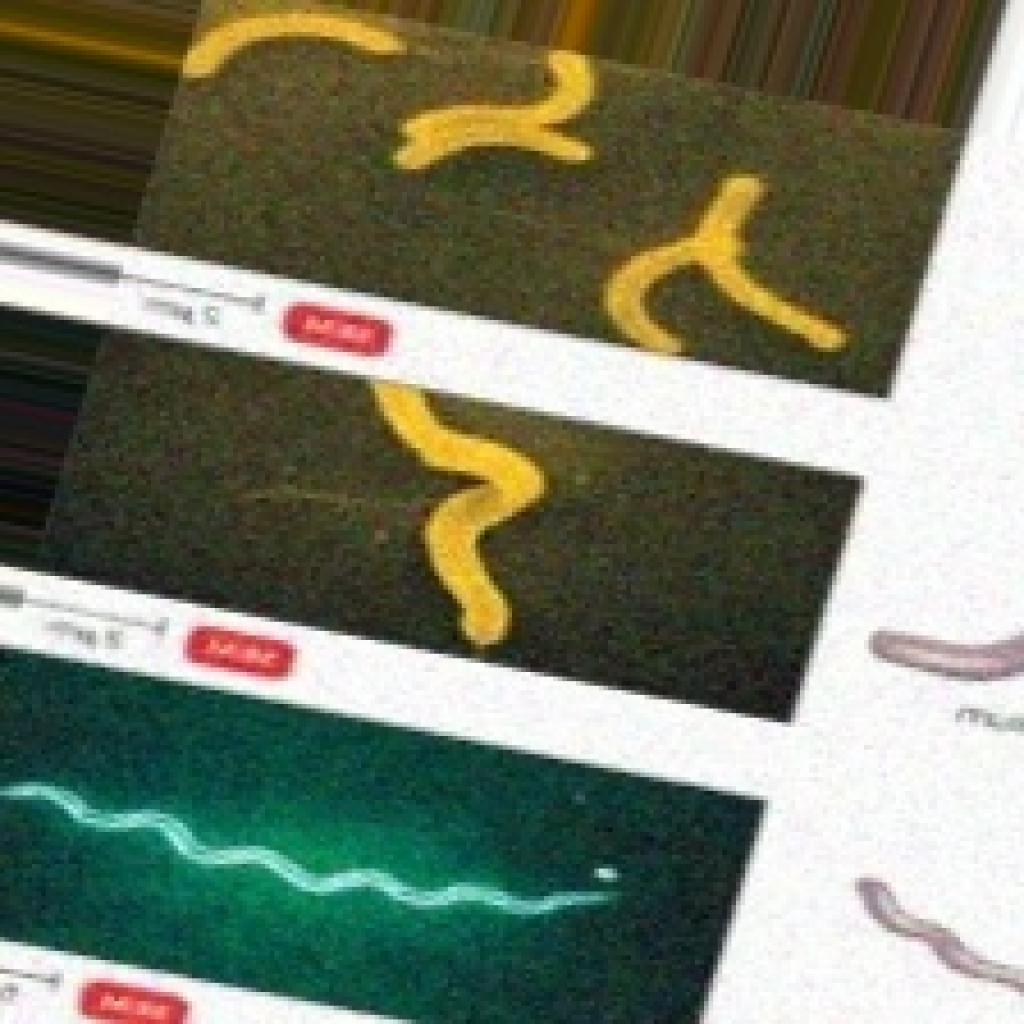Sprialbacteria: (180, 0, 865, 382)
